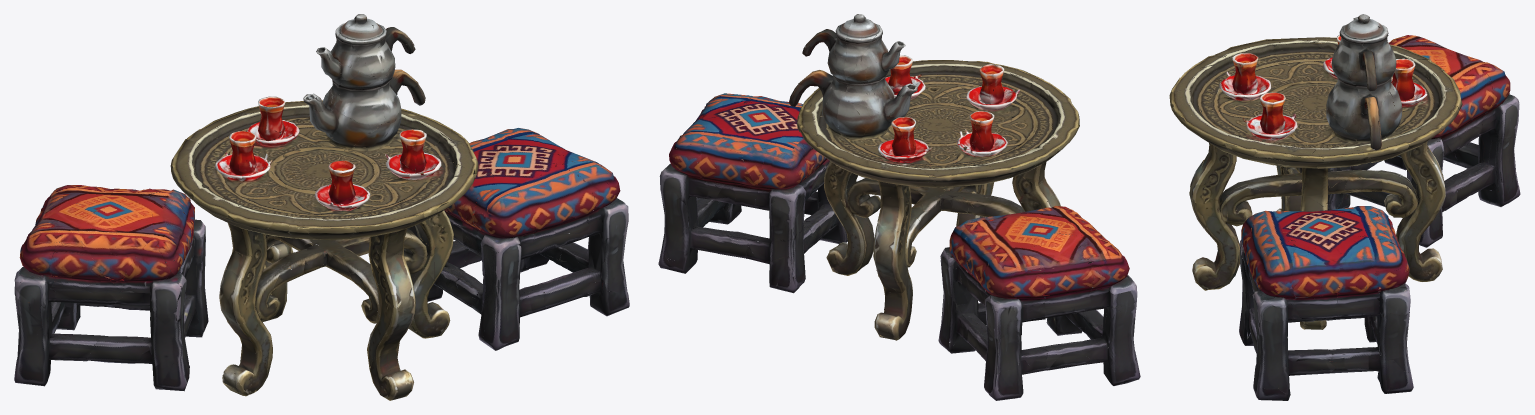
The model's file is TeaTable.fbx.
3 renders of one model, left to right at view 1: azimuth 30°, elevation 25°; view 2: azimuth 150°, elevation 25°; view 3: azimuth 270°, elevation 25°, orthographic. The views are drawn at different scales.
Visible parts, largest first — view 1: TeaTable.022; view 2: TeaTable.022; view 3: TeaTable.022.
Boxes of the visible parts, x1,y1,x2,y2 form: TeaTable.022: (14, 14, 629, 400); TeaTable.022: (658, 14, 1140, 400); TeaTable.022: (1169, 14, 1520, 400).
Bounding box in the file's own units: 1.51 × 0.83 × 0.8997.
Materials: 1 (1 with a texture image).
